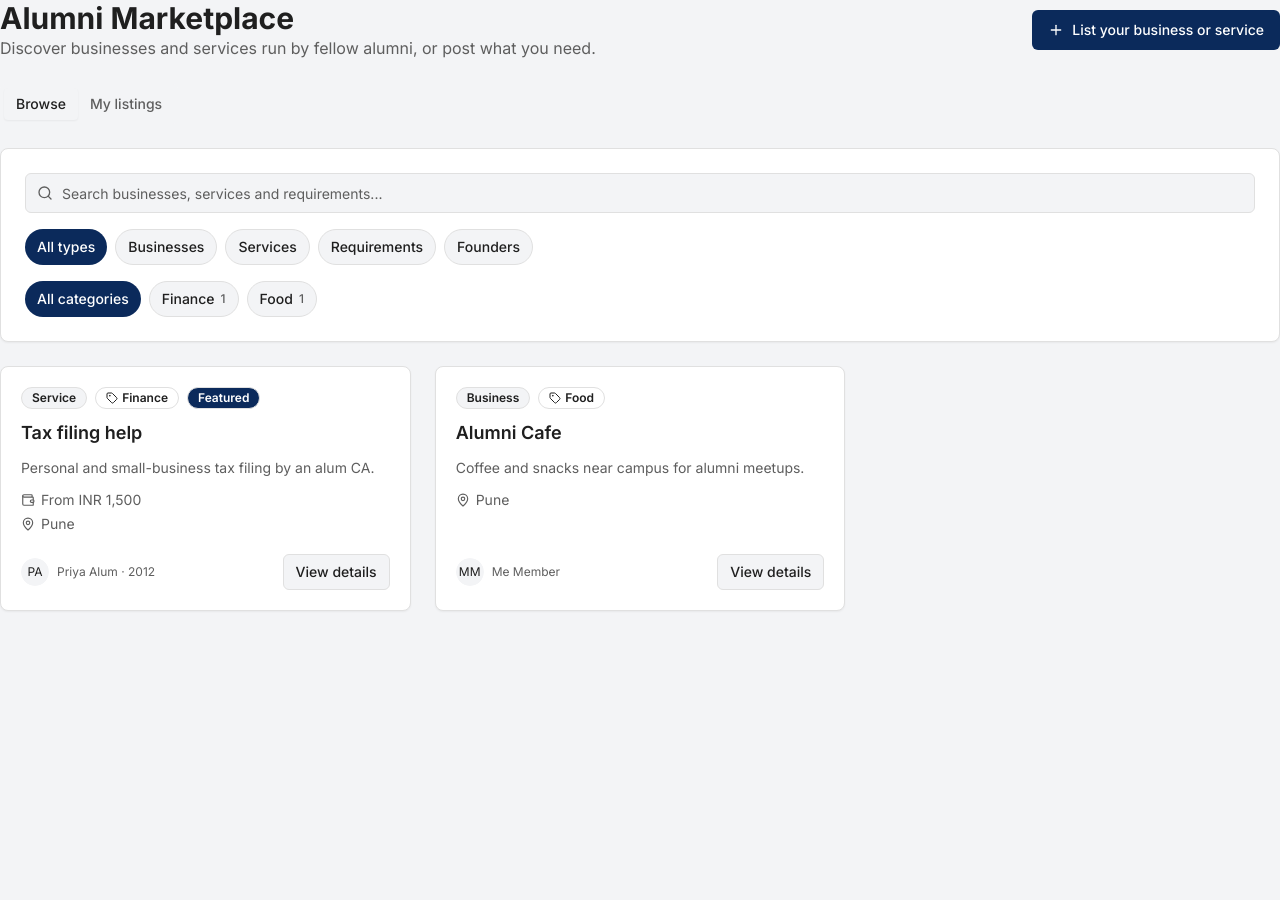
Test: Marketplace page — browse › offers edit only on my own listing in the detail view
What coordinates should you click on to do the following:
click the button with aria-label "View details: Alumni Cafe"
I would click on:
 (771, 572)
Its box is [717, 554, 824, 590].
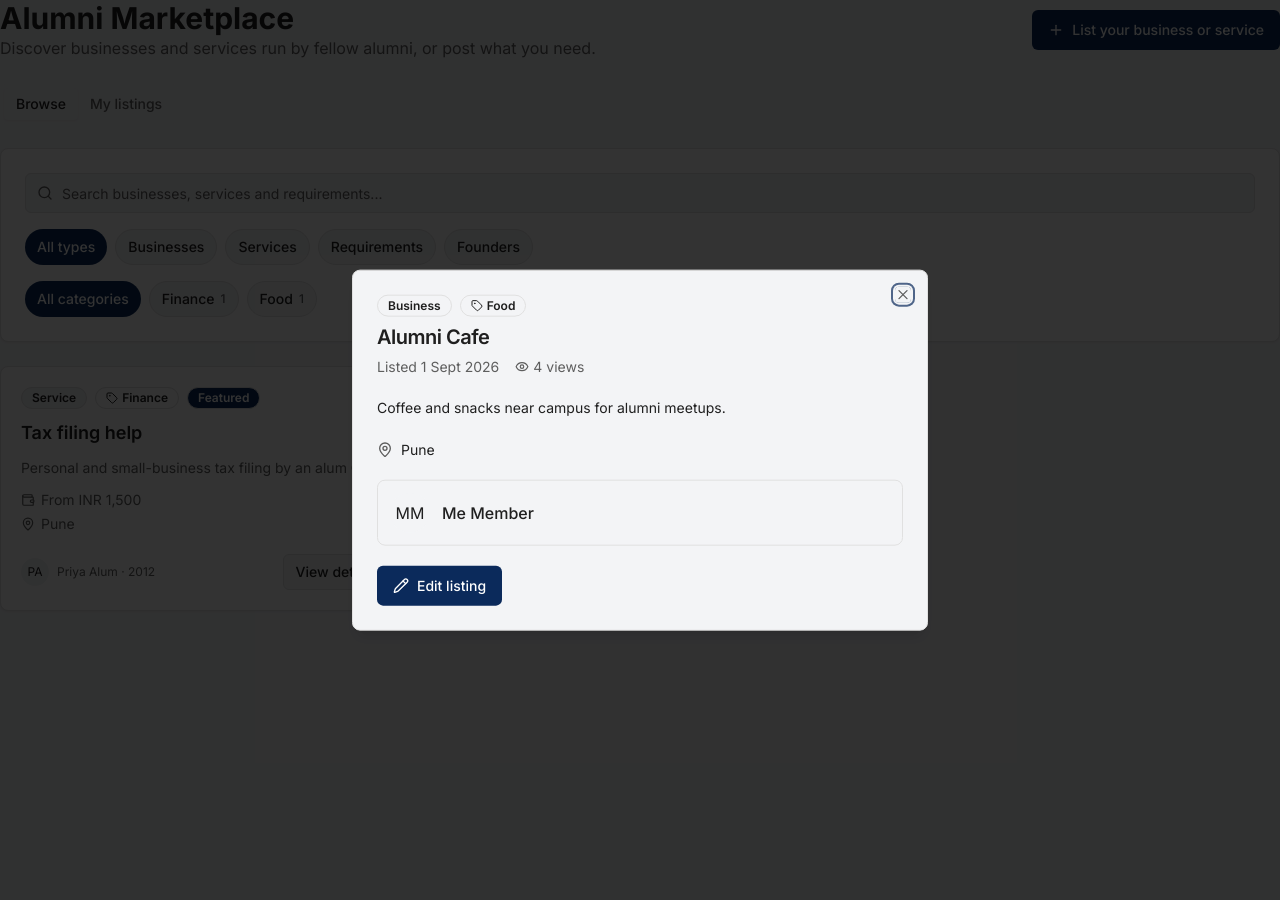
Expected: the button "Edit listing" is shown, [377, 565, 502, 605]
